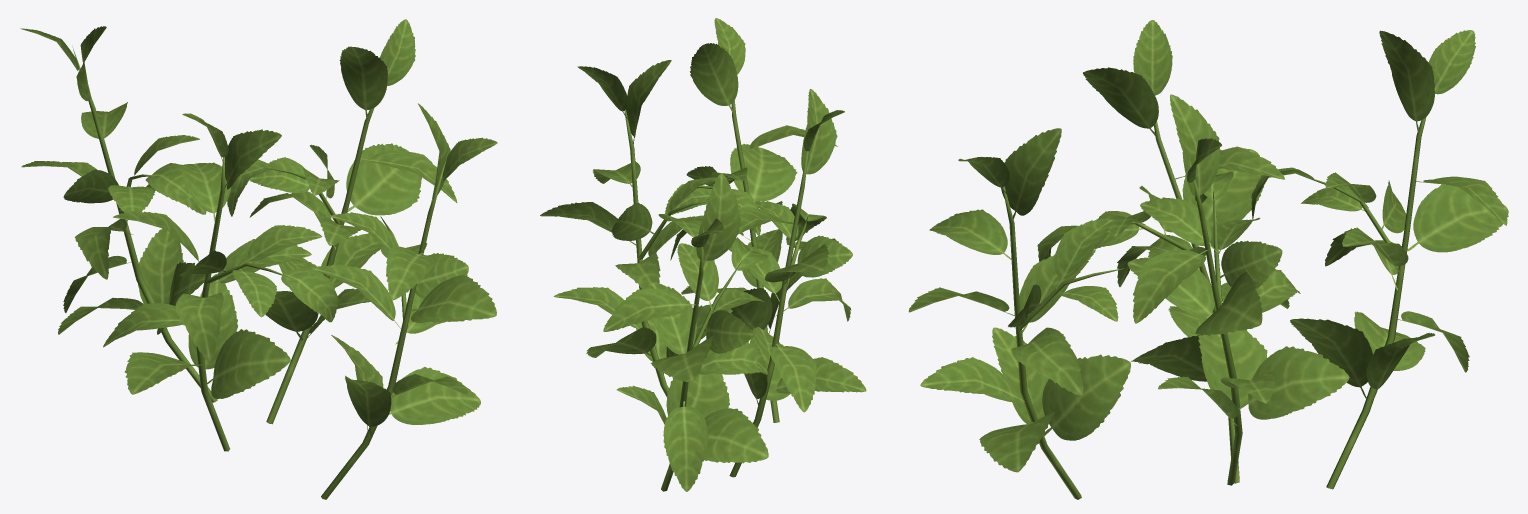
File: herbs_garum.fbx
The picture shows the model from 3 angles, left to right: view 1: azimuth 30°, elevation 25°; view 2: azimuth 150°, elevation 25°; view 3: azimuth 270°, elevation 25°; orthographic projection. The views are drawn at different scales.
Visible parts, largest first — view 1: Basil; view 2: Basil; view 3: Basil.
Part boxes in pixels (<box>): Basil: <box>20,19,497,499</box>; Basil: <box>540,18,866,491</box>; Basil: <box>908,20,1508,499</box>.
Size of the model in its own units: 62.2 by 74.49 by 92.32.
